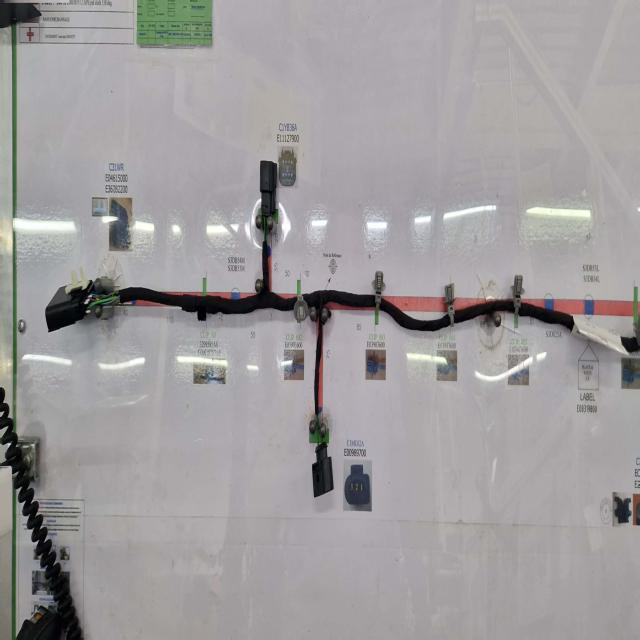Clip: (294, 279, 308, 323), (445, 282, 455, 326), (512, 274, 524, 310), (372, 271, 385, 299), (198, 304, 206, 321)
Connector: (45, 288, 85, 332), (312, 441, 334, 496), (260, 162, 278, 216)
Gape: (87, 281, 122, 310), (312, 413, 326, 447), (260, 218, 272, 250)
Info: (572, 315, 628, 356)
MHEV_N11_Cable: (45, 241, 374, 411), (378, 296, 640, 356)
